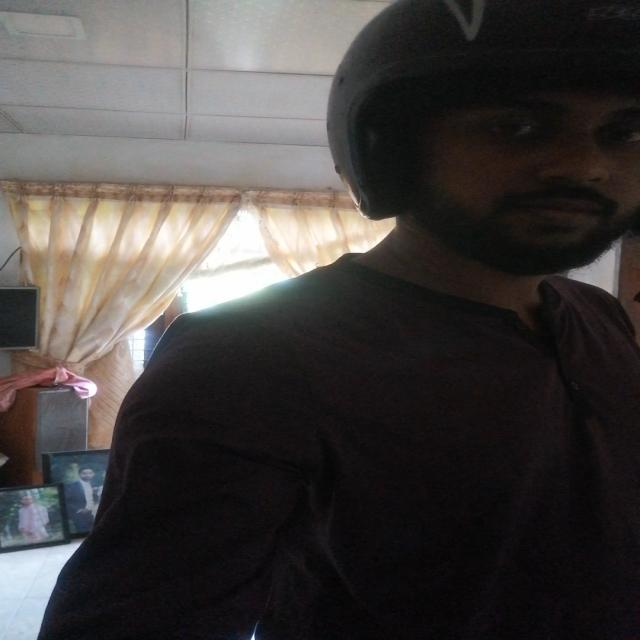Helmet_Wearer: (329, 2, 640, 266)
Person: (84, 1, 639, 640)
